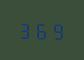nine: (49, 20, 63, 40)
six: (34, 19, 48, 40)
three: (18, 19, 32, 39)
